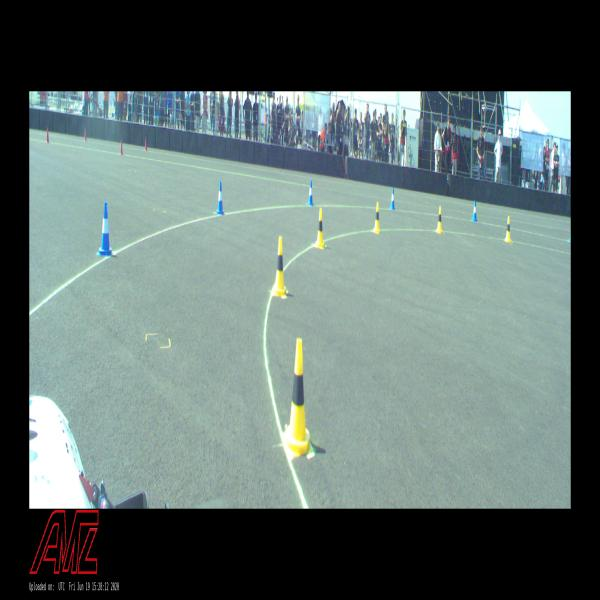blue_cone: (98, 203, 112, 256), (216, 182, 224, 215), (307, 181, 313, 206), (390, 187, 395, 210), (472, 201, 477, 222)
yellow_cone: (282, 338, 314, 454), (272, 236, 287, 296), (314, 208, 325, 249), (372, 202, 380, 234), (504, 215, 512, 243), (435, 205, 443, 233)
